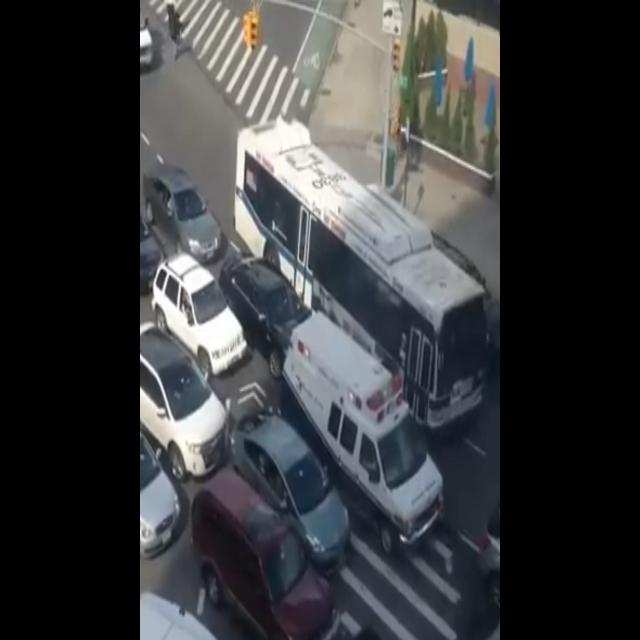Ambulance: (290, 307, 445, 543)
